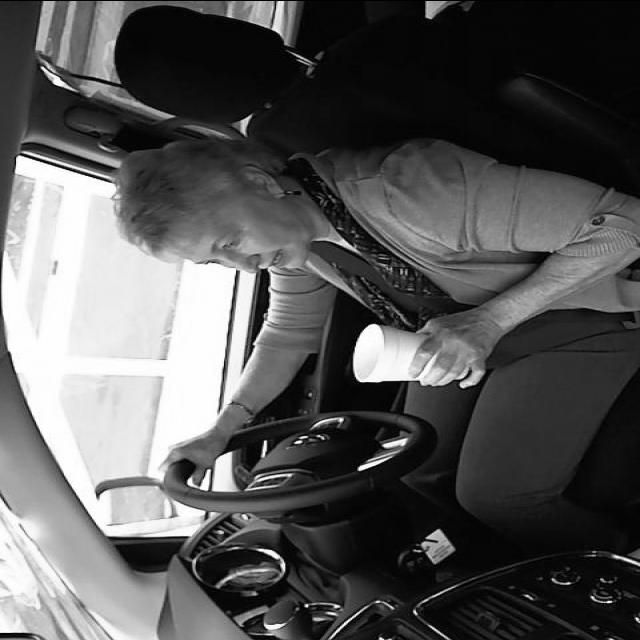drinking: (346, 320, 468, 384)
